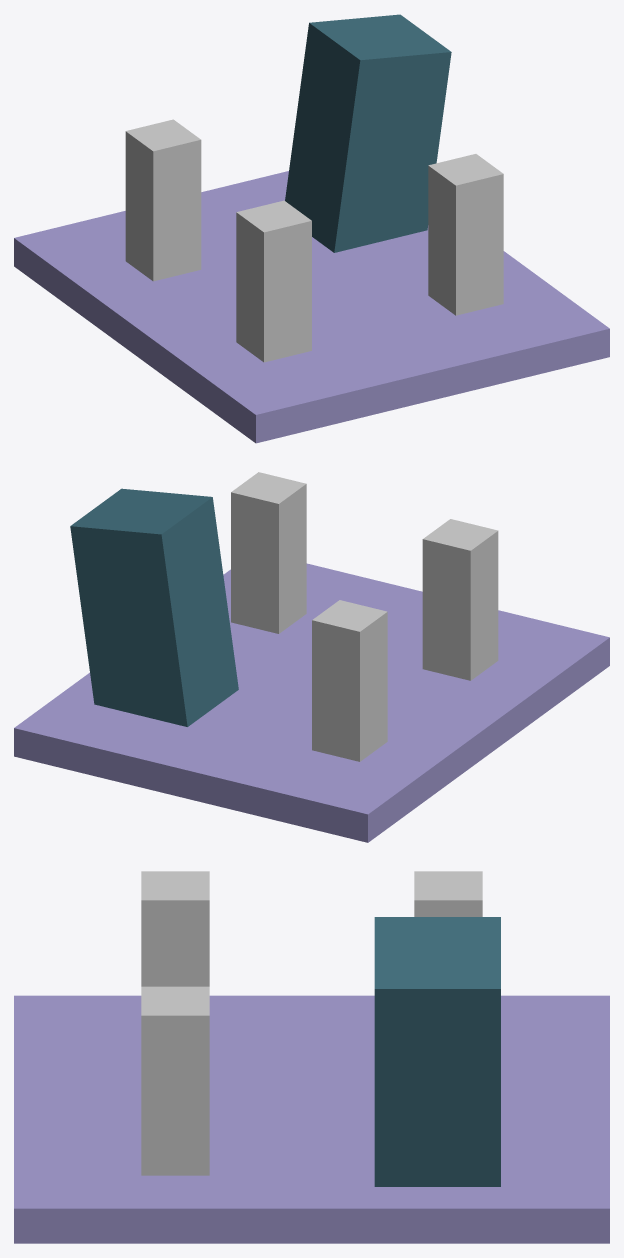
Rendered from column_room.gltf.
3 renders of one model, top to bottom at view 1: azimuth 30°, elevation 25°; view 2: azimuth 150°, elevation 25°; view 3: azimuth 270°, elevation 25°, orthographic. The views are drawn at different scales.
Parts seen in each view (by area): view 1: lod0, lod0.001, Column, Column.001, Column.002; view 2: lod0, lod0.001, Column.001, Column.002, Column; view 3: lod0, lod0.001, Column.002, Column.001, Column.
Boxes of the visible parts, x1=… form: lod0: x1=14, y1=171, x2=609, y2=443; lod0.001: x1=285, y1=14, x2=451, y2=252; Column: x1=125, y1=119, x2=201, y2=281; Column.001: x1=236, y1=200, x2=311, y2=362; Column.002: x1=428, y1=154, x2=503, y2=315; lod0: x1=14, y1=563, x2=609, y2=842; lod0.001: x1=70, y1=488, x2=238, y2=726; Column.001: x1=422, y1=519, x2=498, y2=680; Column.002: x1=231, y1=472, x2=306, y2=633; Column: x1=312, y1=600, x2=387, y2=761; lod0: x1=14, y1=995, x2=609, y2=1243; lod0.001: x1=374, y1=917, x2=500, y2=1186; Column.002: x1=141, y1=986, x2=209, y2=1175; Column.001: x1=141, y1=871, x2=209, y2=986; Column: x1=414, y1=871, x2=482, y2=916.
Size of what is drawn, in the model's own units: 14.77 by 8.66 by 17.47.
